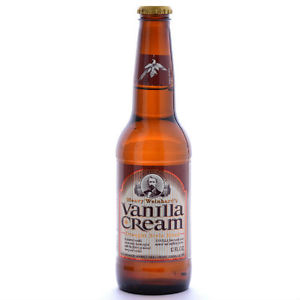Rec_Glass: (80, 1, 209, 295)
